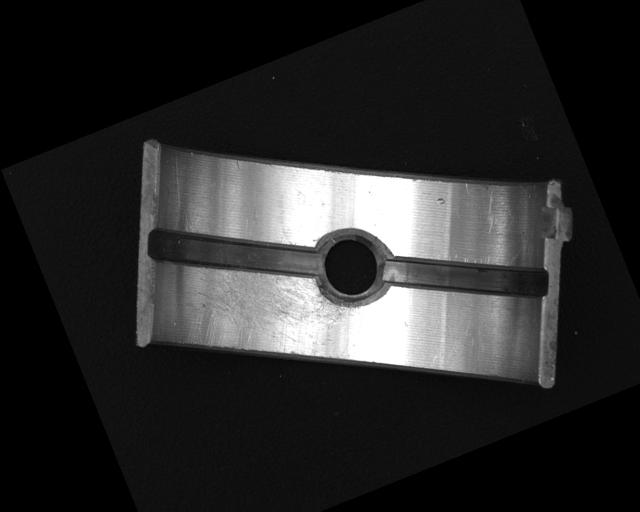bruise: (434, 195, 447, 207)
gap: (145, 178, 322, 326), (379, 208, 552, 348)
hole: (306, 219, 398, 316)
nick: (473, 186, 510, 235)
scratch: (182, 221, 368, 398)
